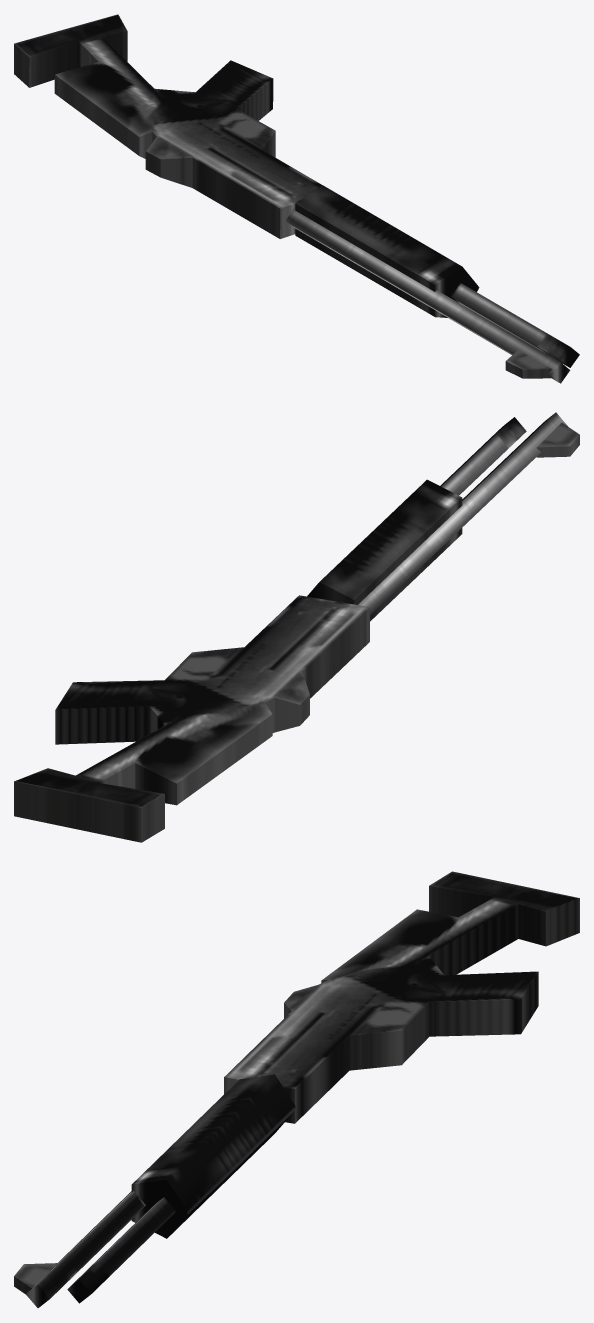
File: xm1014-drop.glb
3 views of the same model, one above another, from view 1: azimuth 30°, elevation 25°; view 2: azimuth 150°, elevation 25°; view 3: azimuth 330°, elevation 25° (orthographic). The views are drawn at different scales.
Visible parts, largest first — view 1: xm1014 dropped.001; view 2: xm1014 dropped.001; view 3: xm1014 dropped.001.
Part boxes in pixels (x1,y1,x2,y2): xm1014 dropped.001: (14,14,579,383); xm1014 dropped.001: (14,412,579,842); xm1014 dropped.001: (14,871,579,1307).
Bounding box in the file's own units: 0.2269 × 0.0707 × 1.11.
1 material, 1 textured.
